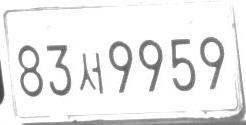3: (46, 45, 72, 96)
5: (170, 37, 196, 91)
8: (17, 44, 43, 96)
9: (137, 39, 163, 92), (108, 40, 133, 93), (200, 36, 224, 89)
서: (78, 52, 104, 94)
